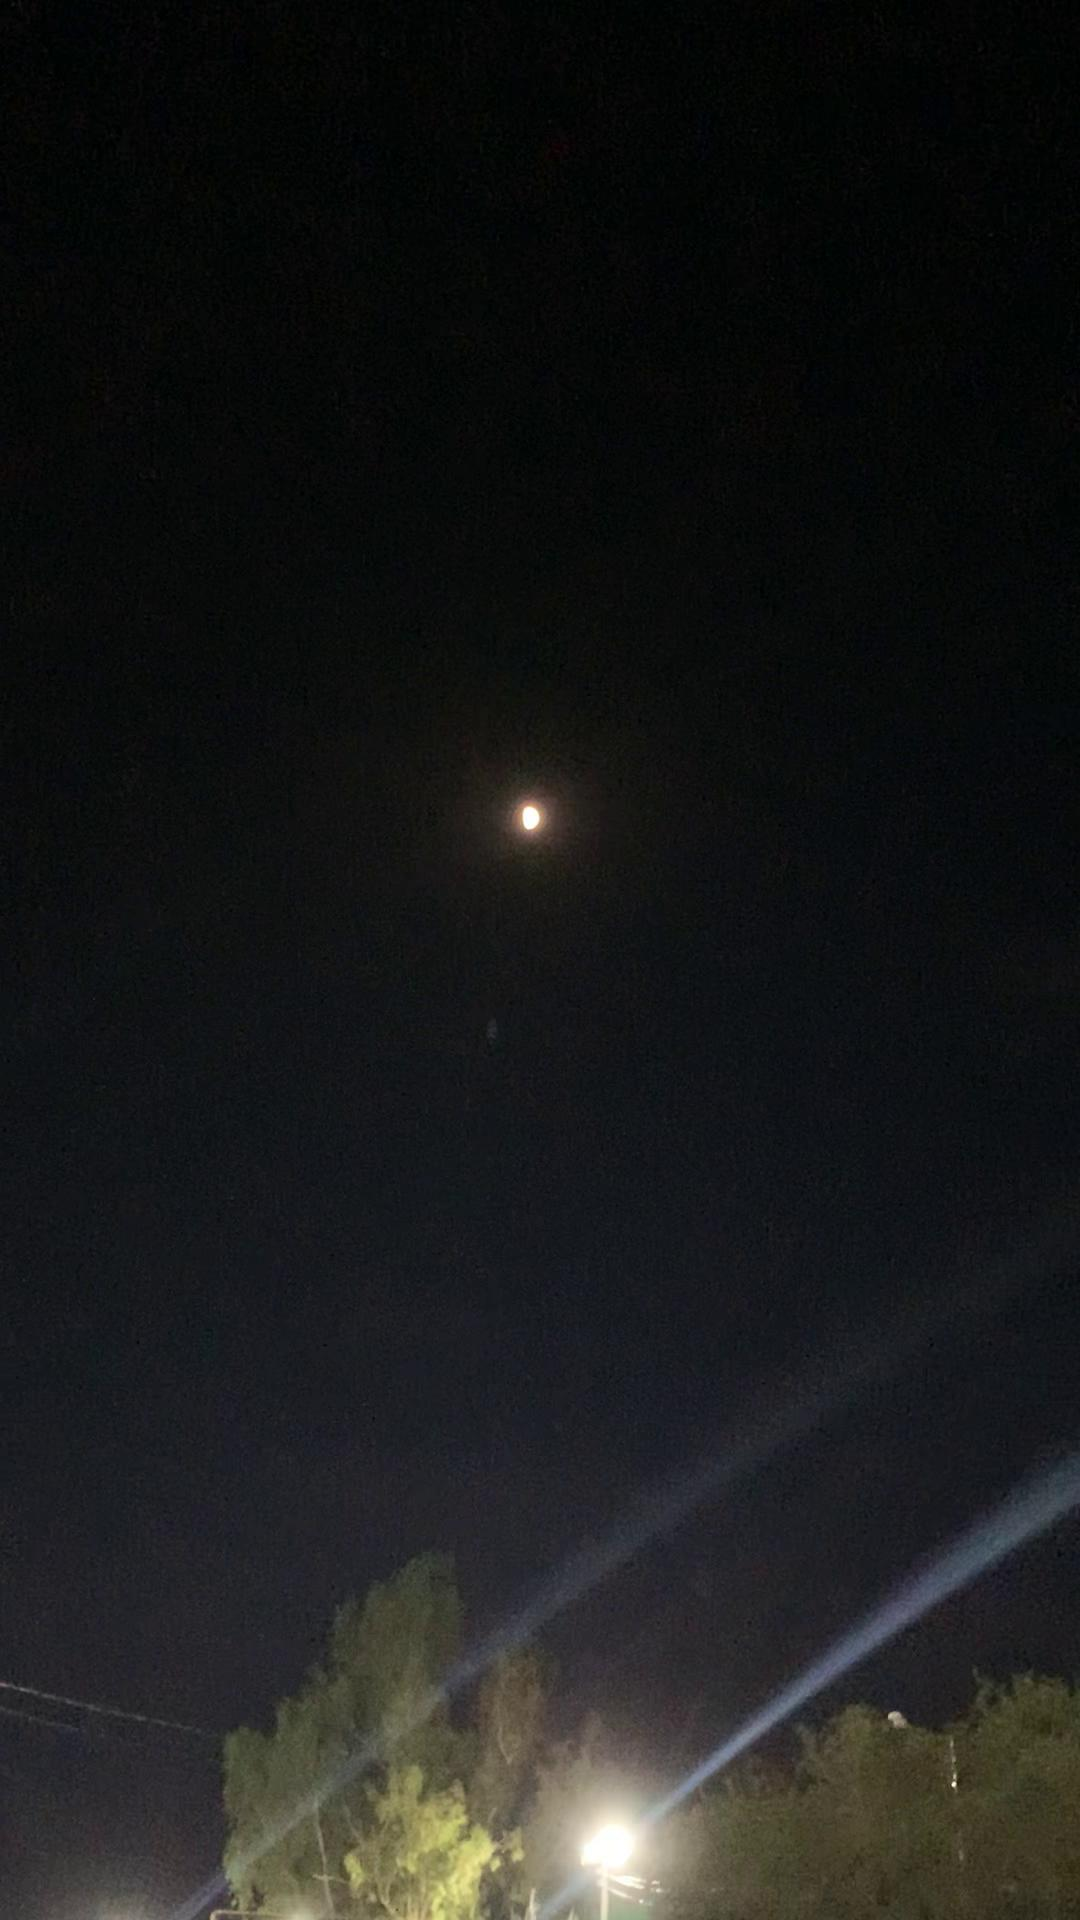moon: (491, 775, 570, 864)
